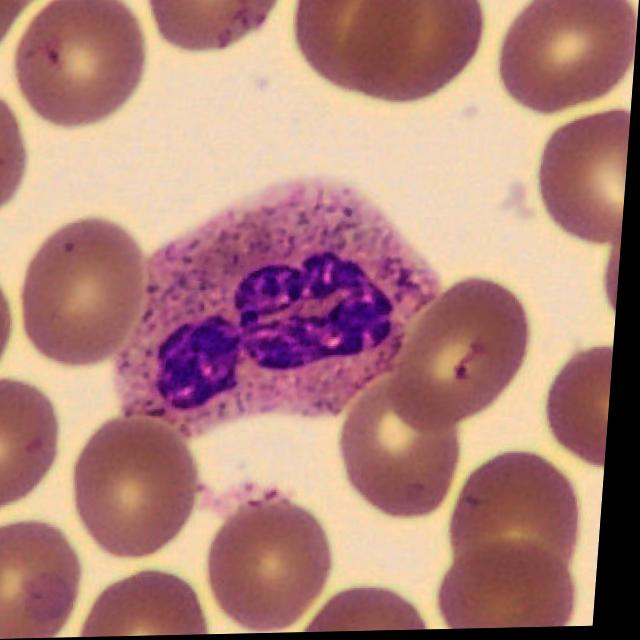Neutrofilo segmentado: (122, 179, 445, 440)
